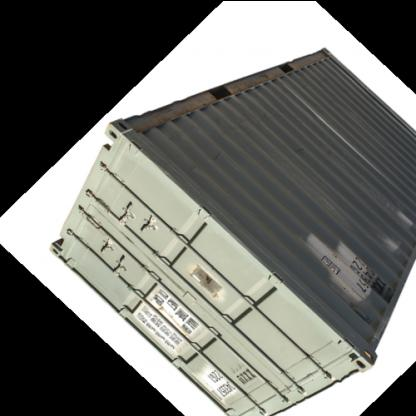Damage: (307, 232, 373, 310), (184, 265, 228, 306), (382, 230, 410, 257), (291, 138, 313, 159), (210, 148, 235, 166)
